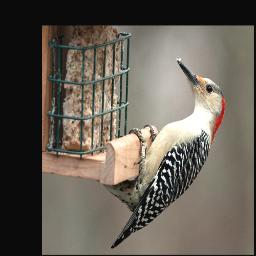Woodpecker: (102, 57, 226, 250)
